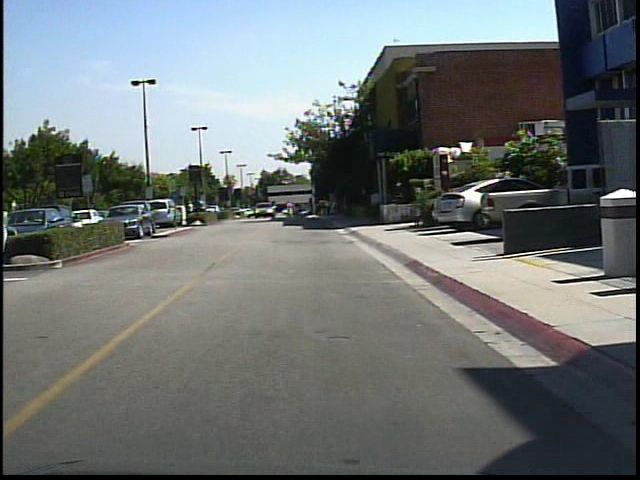person: (183, 193, 200, 224), (283, 196, 298, 223)
